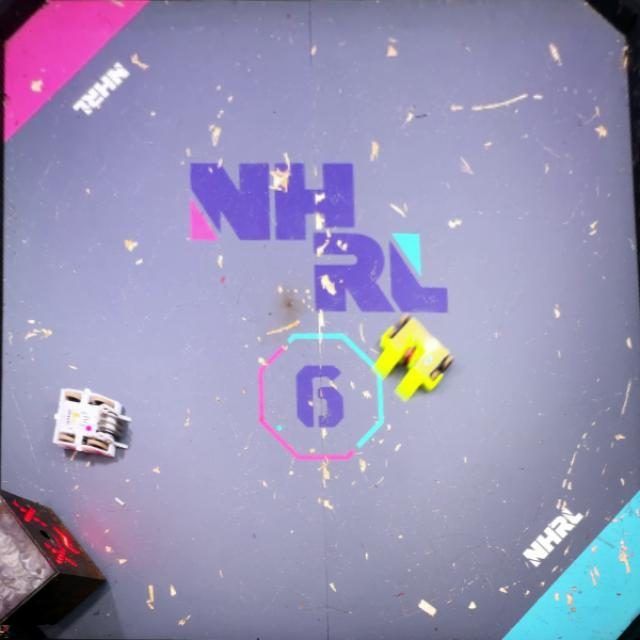housebot: (0, 490, 111, 640)
robot: (371, 315, 452, 397), (54, 387, 130, 462)
